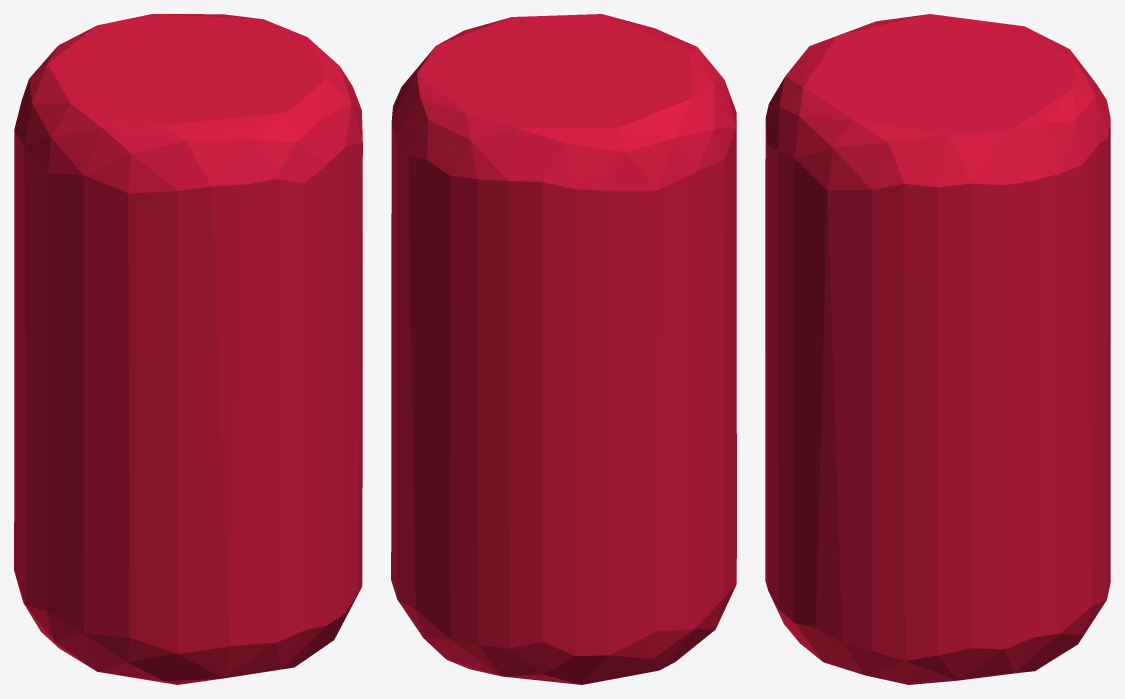
Rendered from player.obj.
The picture shows the model from 3 angles, left to right: view 1: azimuth 30°, elevation 25°; view 2: azimuth 150°, elevation 25°; view 3: azimuth 270°, elevation 25°; orthographic projection.
Parts seen in each view (by area): view 1: body_Cylinder; view 2: body_Cylinder; view 3: body_Cylinder.
Part boxes in pixels (box(x1,y1,x2,y2)): body_Cylinder: box(14, 14, 362, 684); body_Cylinder: box(391, 14, 736, 684); body_Cylinder: box(765, 14, 1110, 684).
Size of the model in its own units: 1.13 by 2 by 1.13.
